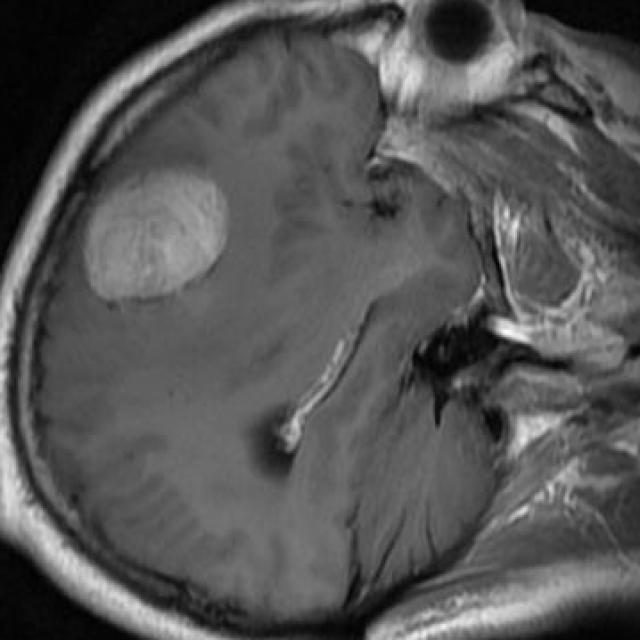meningioma: (84, 171, 230, 299)
